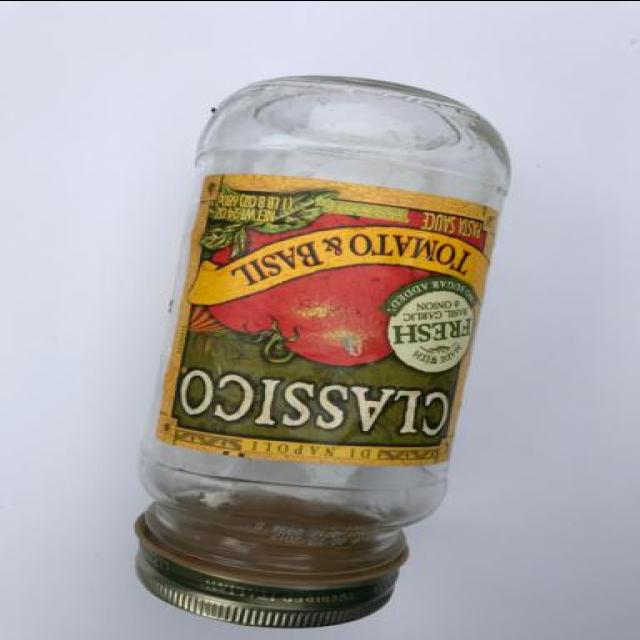glass: (116, 72, 522, 640)
